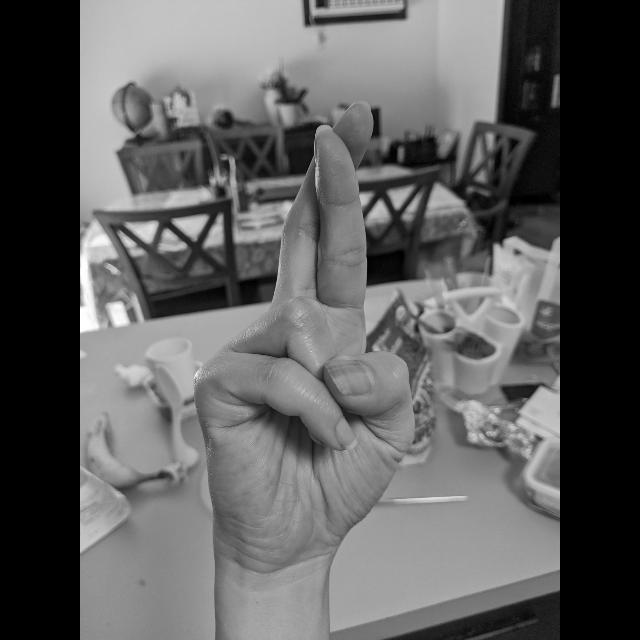R: (186, 95, 424, 580)
